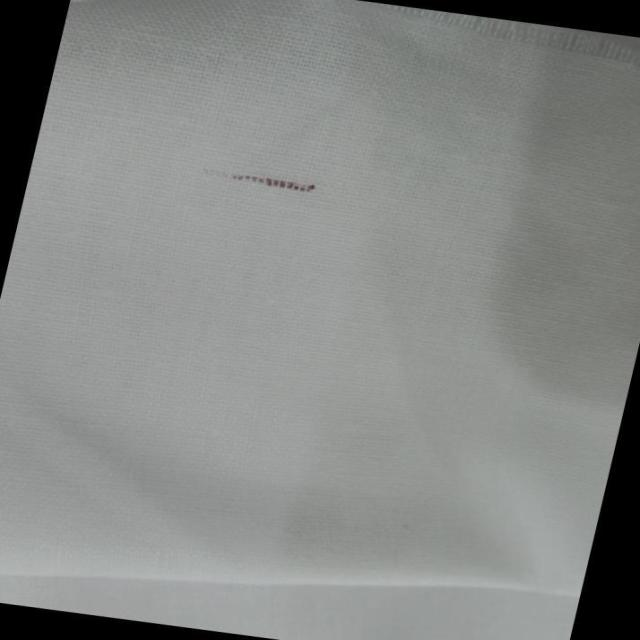contamination: (217, 163, 335, 202)
